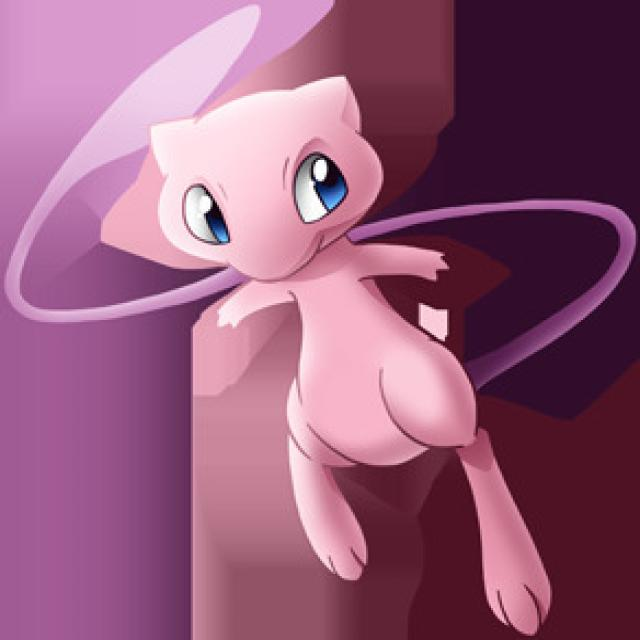Mew: (159, 82, 461, 466)
